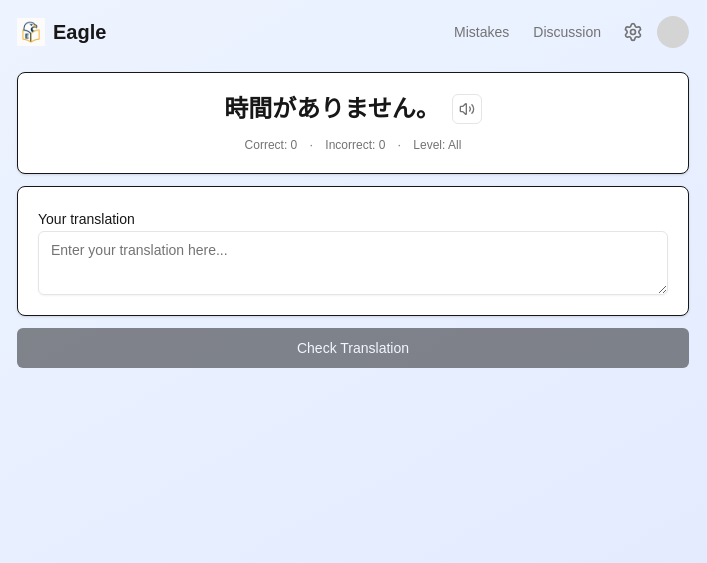
Scenario: review phase › swaps the input out for the review panel
This screenshot has width=707, height=563.
Check: the text "時間がありません。" is shown, box [224,93,440,125]
Type "I have no time." into the text box named "Your English translation" at x=353, y=263, box [38,231,668,295]
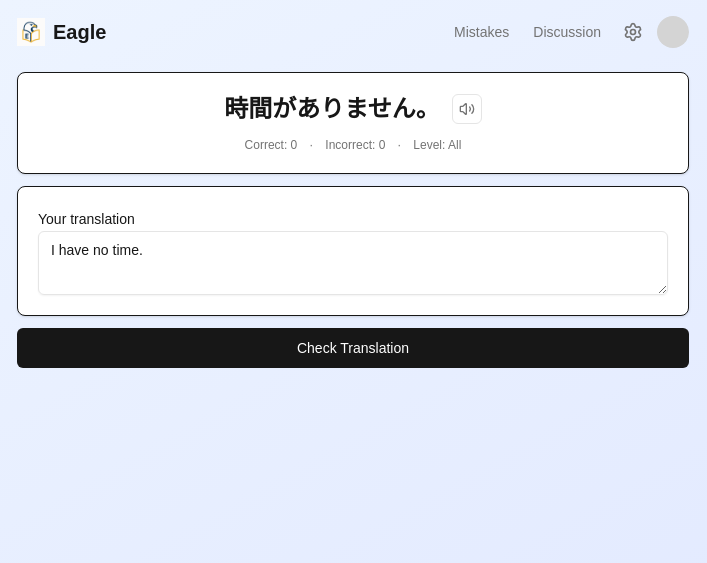
Click the button "Check Translation" at x=353, y=348, box [17,328,689,368]
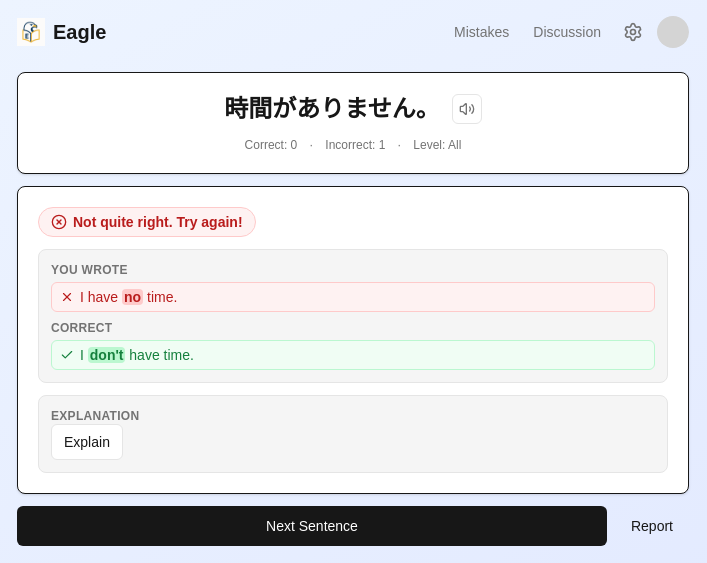
Check: the text "Not quite right. Try again!" is shown, box [38,207,256,237]
Check: the label labelled "Your English translation" is gone
Check: the element showing "I don't have time." is shown, box [51,340,655,370]
